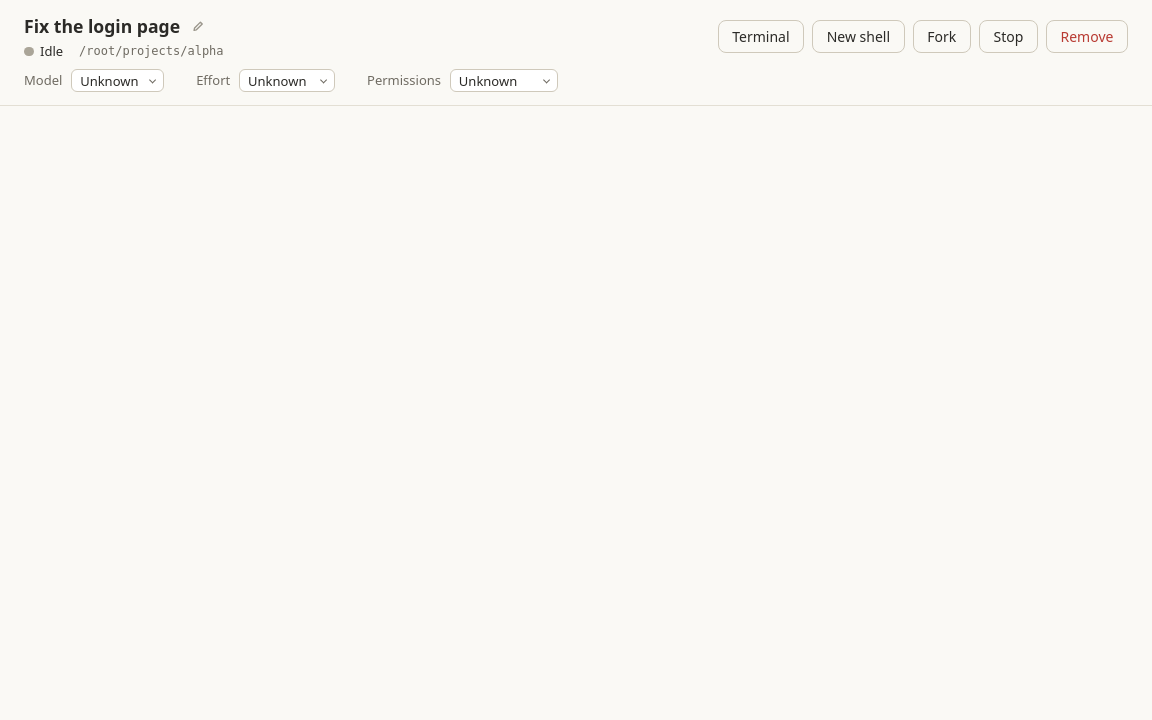
Scenario: a fork the hub refuses says why in the dialog and keeps the message
This screenshot has width=1152, height=720.
Click the button "Fork": click(942, 37) [913,20,971,54]
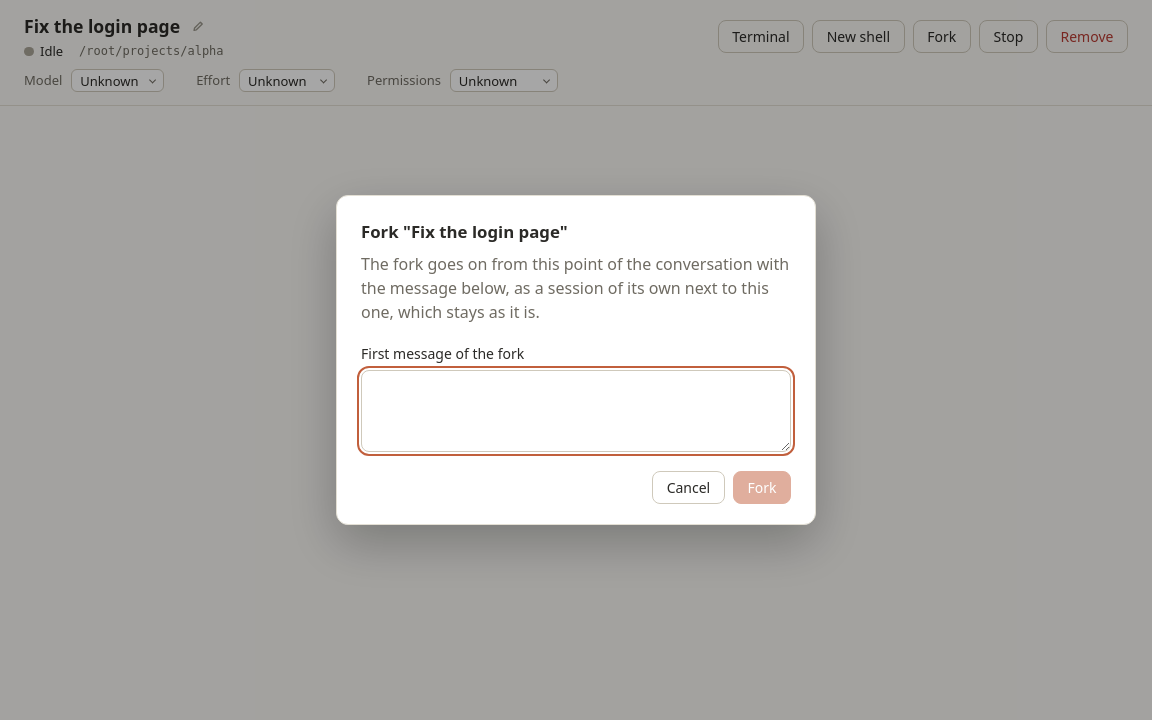
In the text box labelled "First message of the fork": (576, 411) [361,370,791,452], type "Try a passkey login instead"
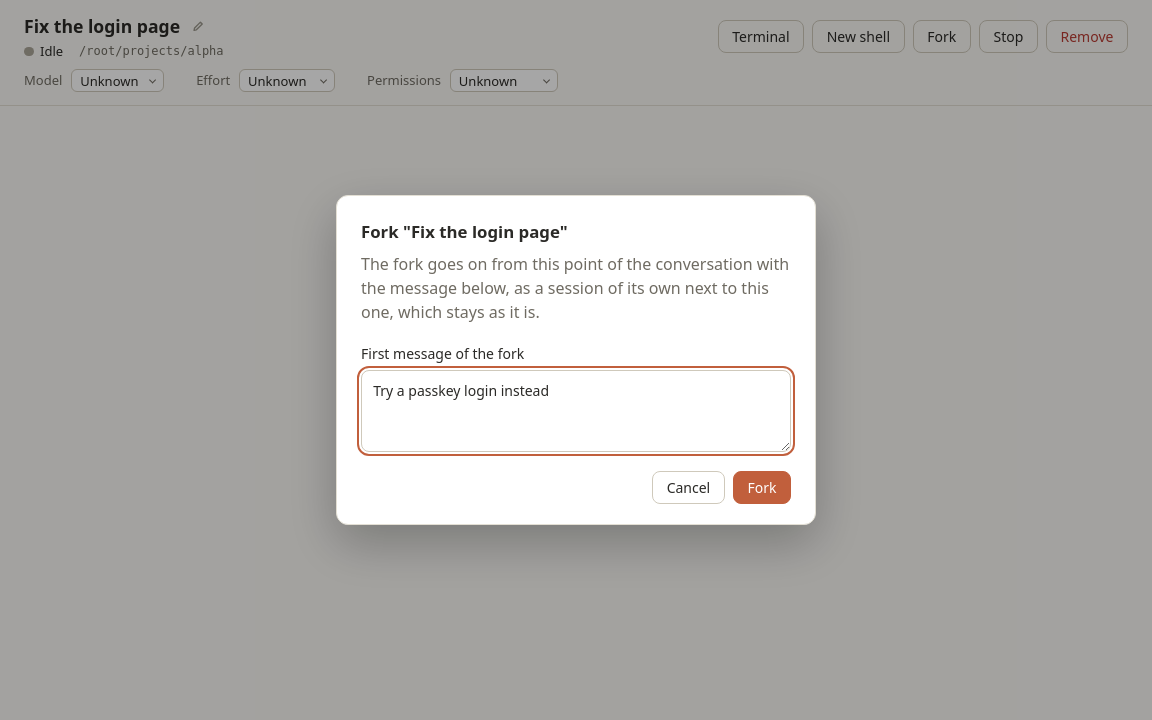
Click the button "Fork": click(762, 488) [733,472,791,504]
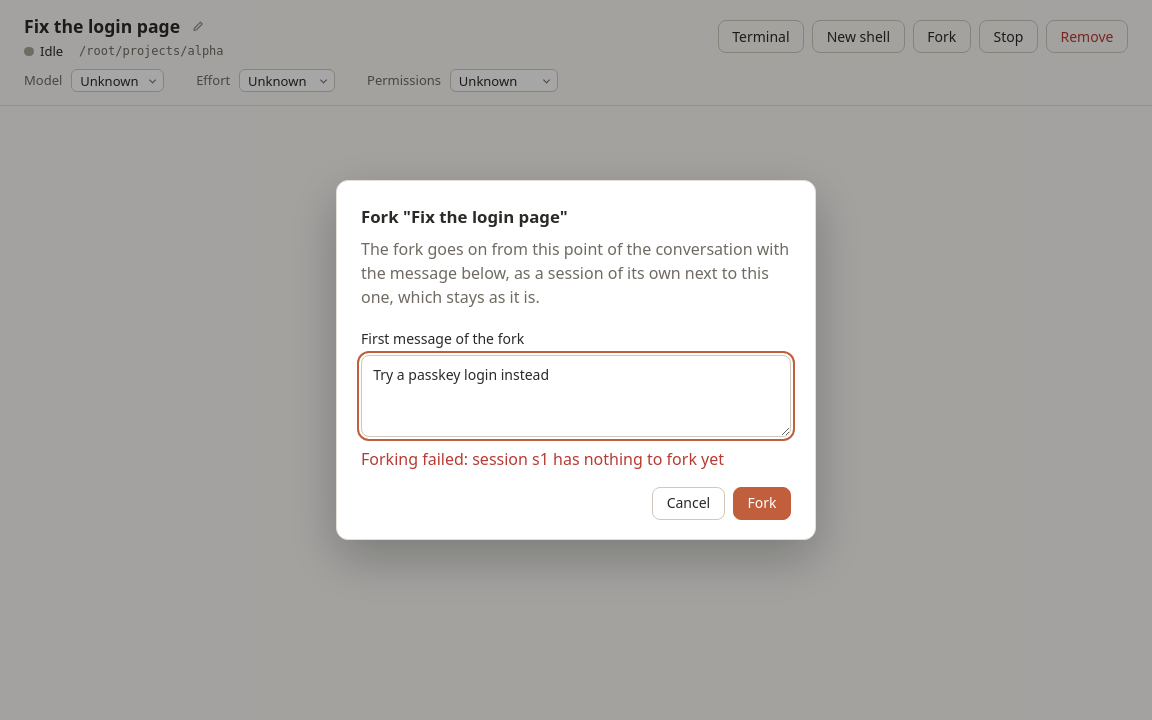
Now the message reads "Forking failed: session s1 has nothing to fork yet", box [361,448,724,470]
